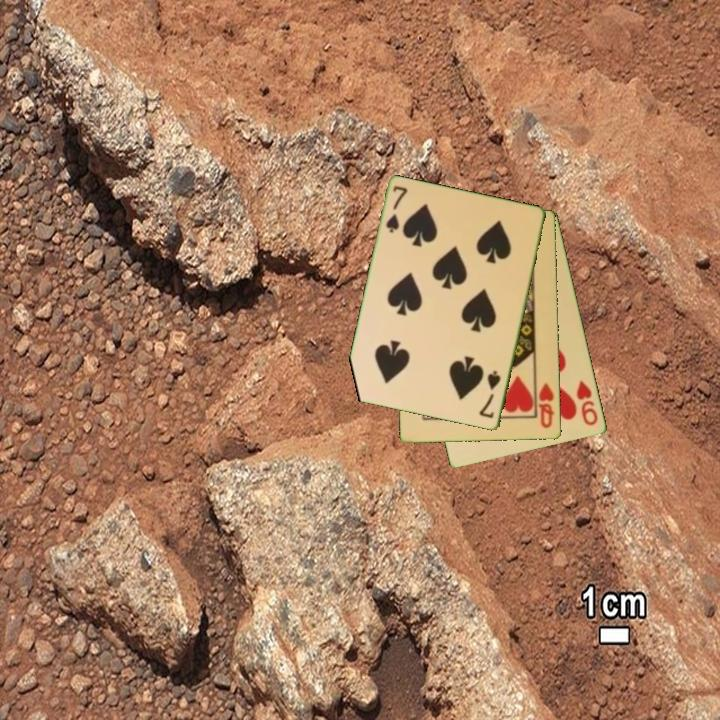7s: (476, 367, 504, 422), (383, 183, 411, 236)
9h: (573, 377, 601, 429)
Qh: (535, 380, 557, 431)
